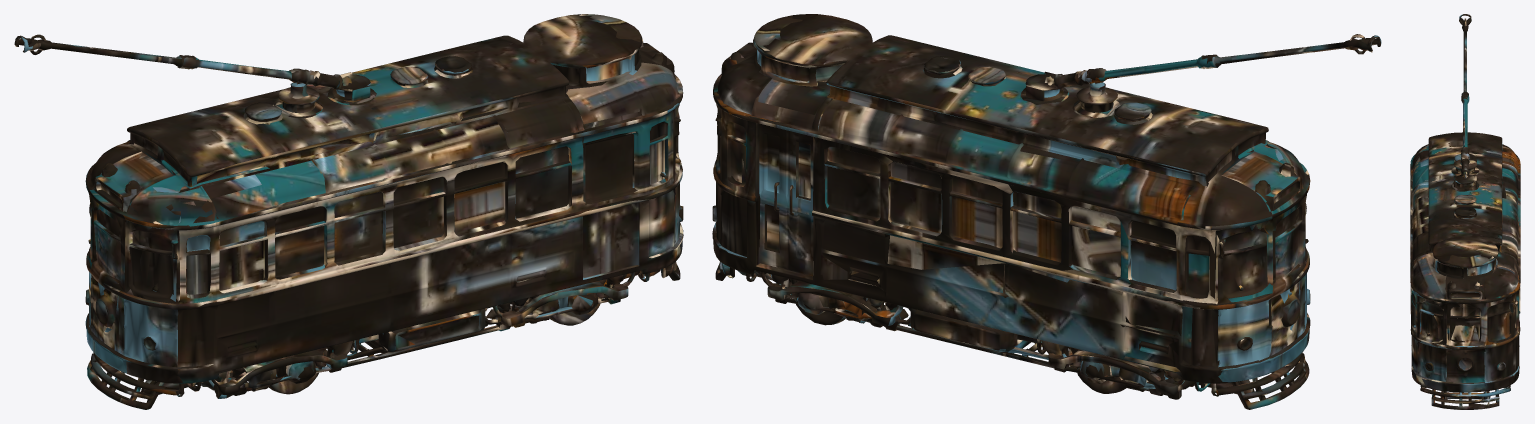
The model's file is tram.glb.
The picture shows the model from 3 angles, left to right: view 1: azimuth 30°, elevation 25°; view 2: azimuth 150°, elevation 25°; view 3: azimuth 270°, elevation 25°; orthographic projection. The views are drawn at different scales.
Parts seen in each view (by area): view 1: KIT_tram_hunyuan_mesh; view 2: KIT_tram_hunyuan_mesh; view 3: KIT_tram_hunyuan_mesh.
Part boxes in pixels (x1=…): KIT_tram_hunyuan_mesh: x1=14, y1=14, x2=683, y2=409; KIT_tram_hunyuan_mesh: x1=712, y1=14, x2=1381, y2=409; KIT_tram_hunyuan_mesh: x1=1410, y1=14, x2=1520, y2=409.
Bounding box in the file's own units: 9 × 5.22 × 2.31.
Materials: 1 (1 with a texture image).
